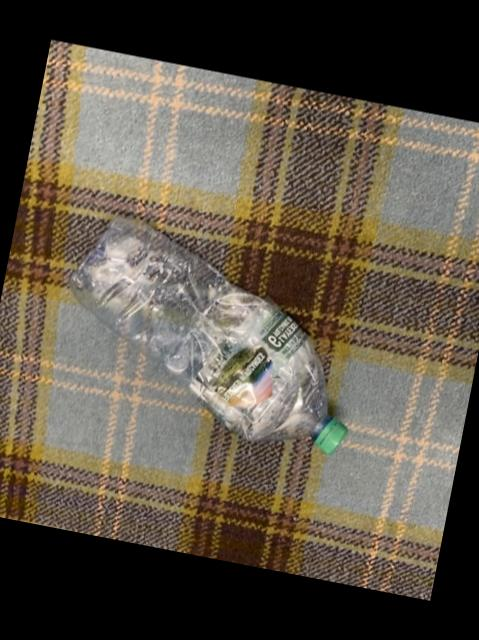plastic: (67, 216, 344, 452)
